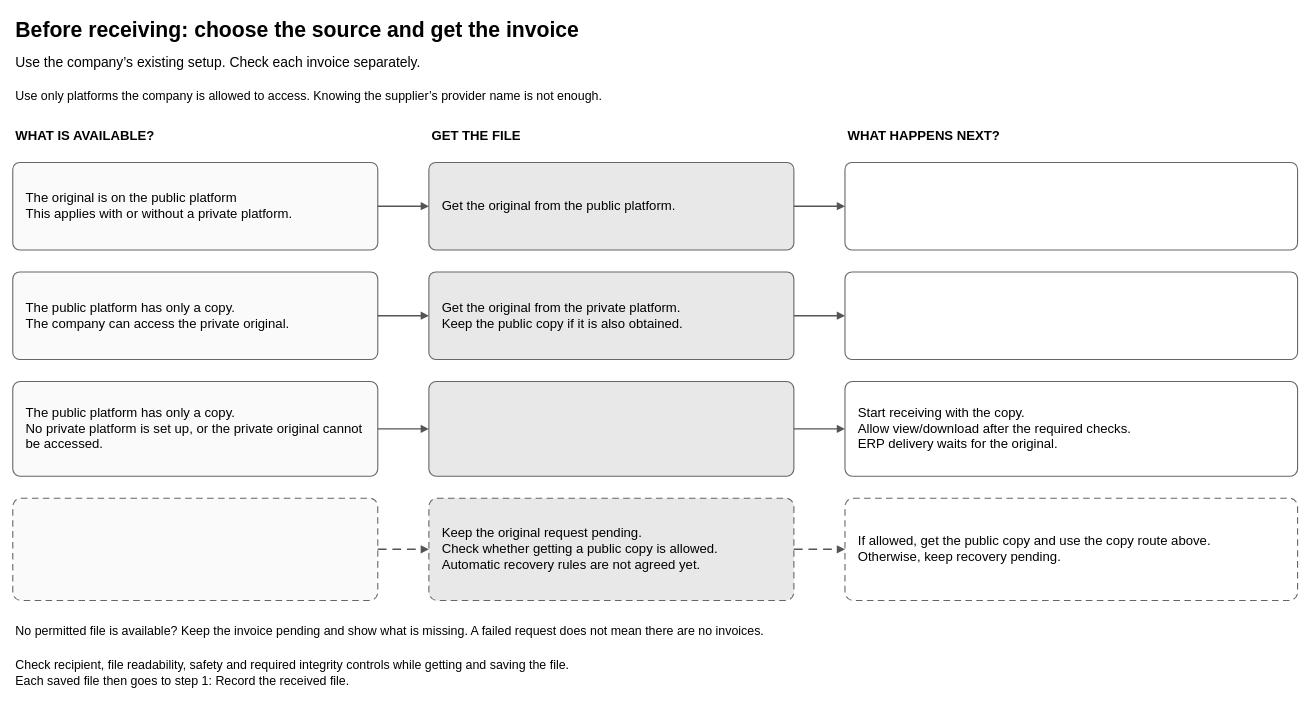
Some shapes in this 1311 by 705 pixel diagram are drawn without their labels. Here are the shapes that lost their labels. From the top down, the centre of each, then its label:
At (x=1071, y=206): "Start receiving with the original. Continue at step 1 in the receiving diagram.".
At (x=1071, y=315): "Start receiving with the original. Keep the original and copy clearly labelled.".
At (x=611, y=429): "Get the copy from the public platform, if the company has permission.".
At (x=195, y=549): "The private-original download fails.".
